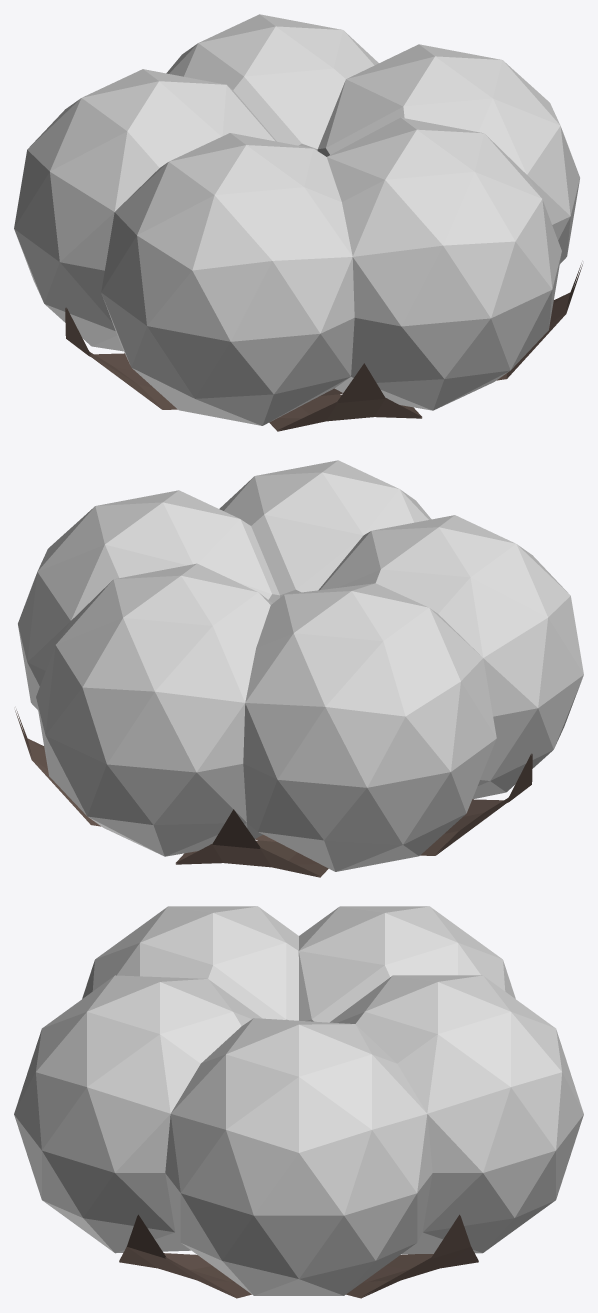
The model's file is cotton.fbx.
3 renders of one model, top to bottom at view 1: azimuth 30°, elevation 25°; view 2: azimuth 150°, elevation 25°; view 3: azimuth 270°, elevation 25°, orthographic.
Visible parts, largest first — view 1: cotton_boll; view 2: cotton_boll; view 3: cotton_boll.
Boxes of the visible parts, <box> form: cotton_boll: <box>14,14,582,431</box>; cotton_boll: <box>15,460,583,877</box>; cotton_boll: <box>14,906,583,1298</box>.
Bounding box in the file's own units: 383 × 229 × 390.
